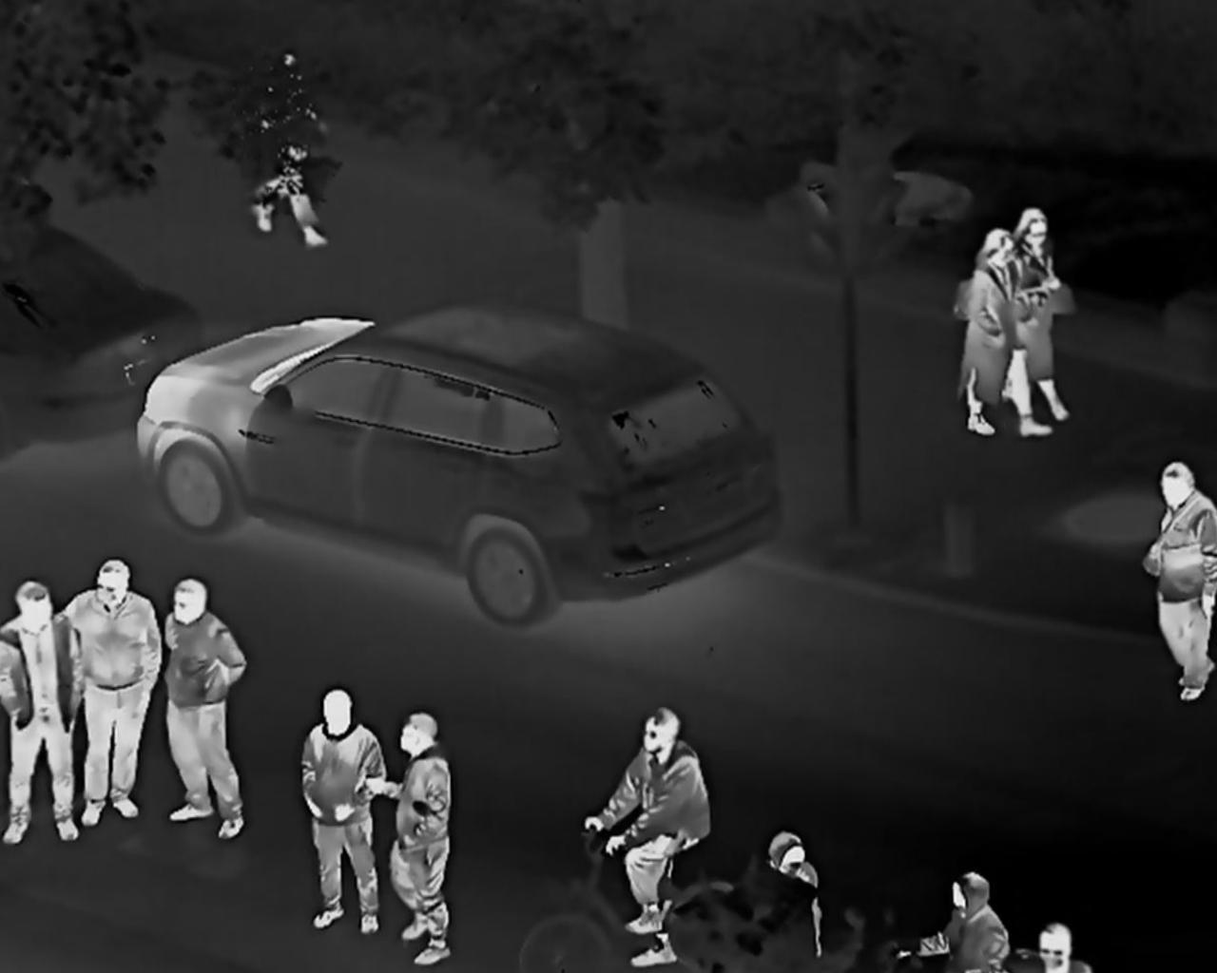person: (381, 698, 478, 973), (607, 697, 693, 973), (152, 560, 241, 823), (305, 667, 377, 938), (11, 582, 84, 811), (87, 558, 145, 840), (1144, 464, 1217, 680), (962, 224, 1020, 441), (1020, 204, 1068, 448), (272, 70, 338, 244), (916, 875, 1008, 973), (769, 827, 824, 956), (1022, 926, 1092, 973)
